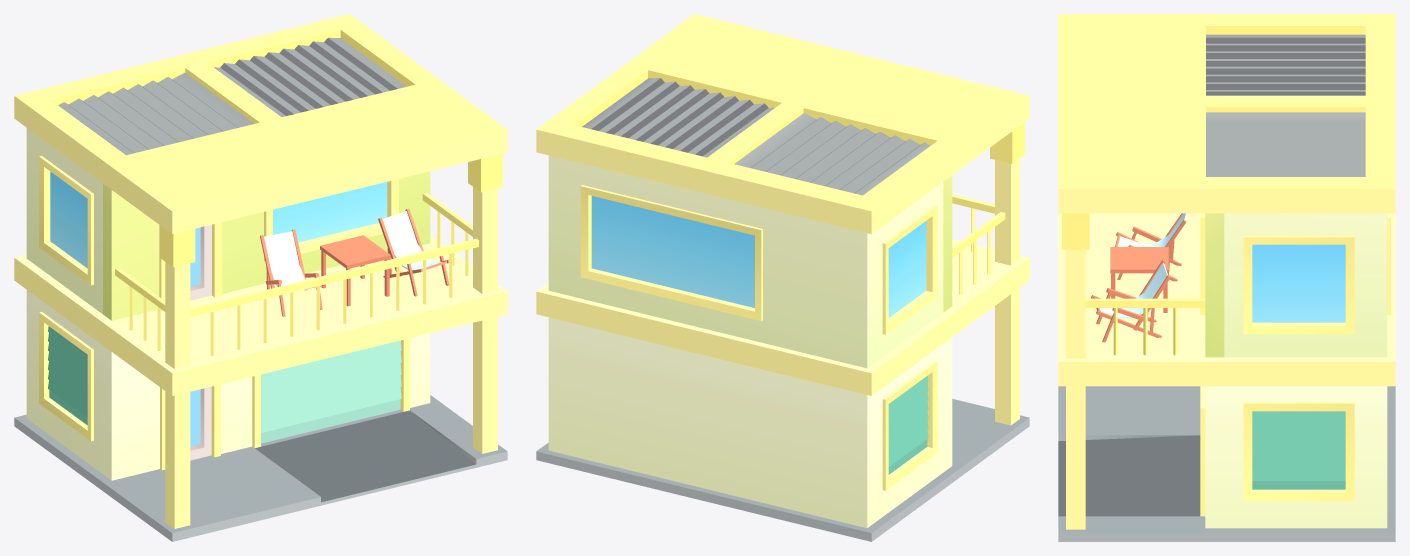
File: city2-building-living-13.glb
3 renders of one model, left to right at view 1: azimuth 30°, elevation 25°; view 2: azimuth 150°, elevation 25°; view 3: azimuth 270°, elevation 25°, orthographic. The views are drawn at different scales.
Visible parts, largest first — view 1: Building_Living_13; view 2: Building_Living_13; view 3: Building_Living_13.
Boxes of the visible parts, <box> form: Building_Living_13: <box>14,14,507,541</box>; Building_Living_13: <box>536,14,1029,541</box>; Building_Living_13: <box>1058,14,1395,541</box>.
Size of the model in its own units: 8.03 by 7.56 by 6.55.
Materials: 1 (1 with a texture image).
